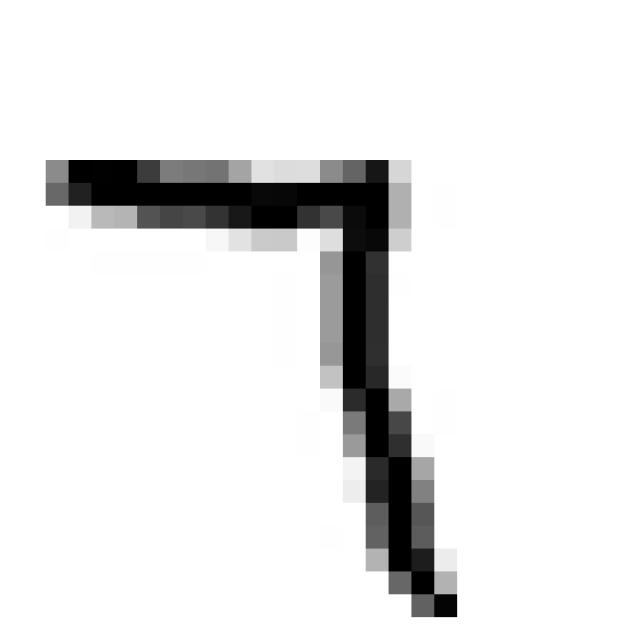6 -six-: (28, 128, 482, 631)
